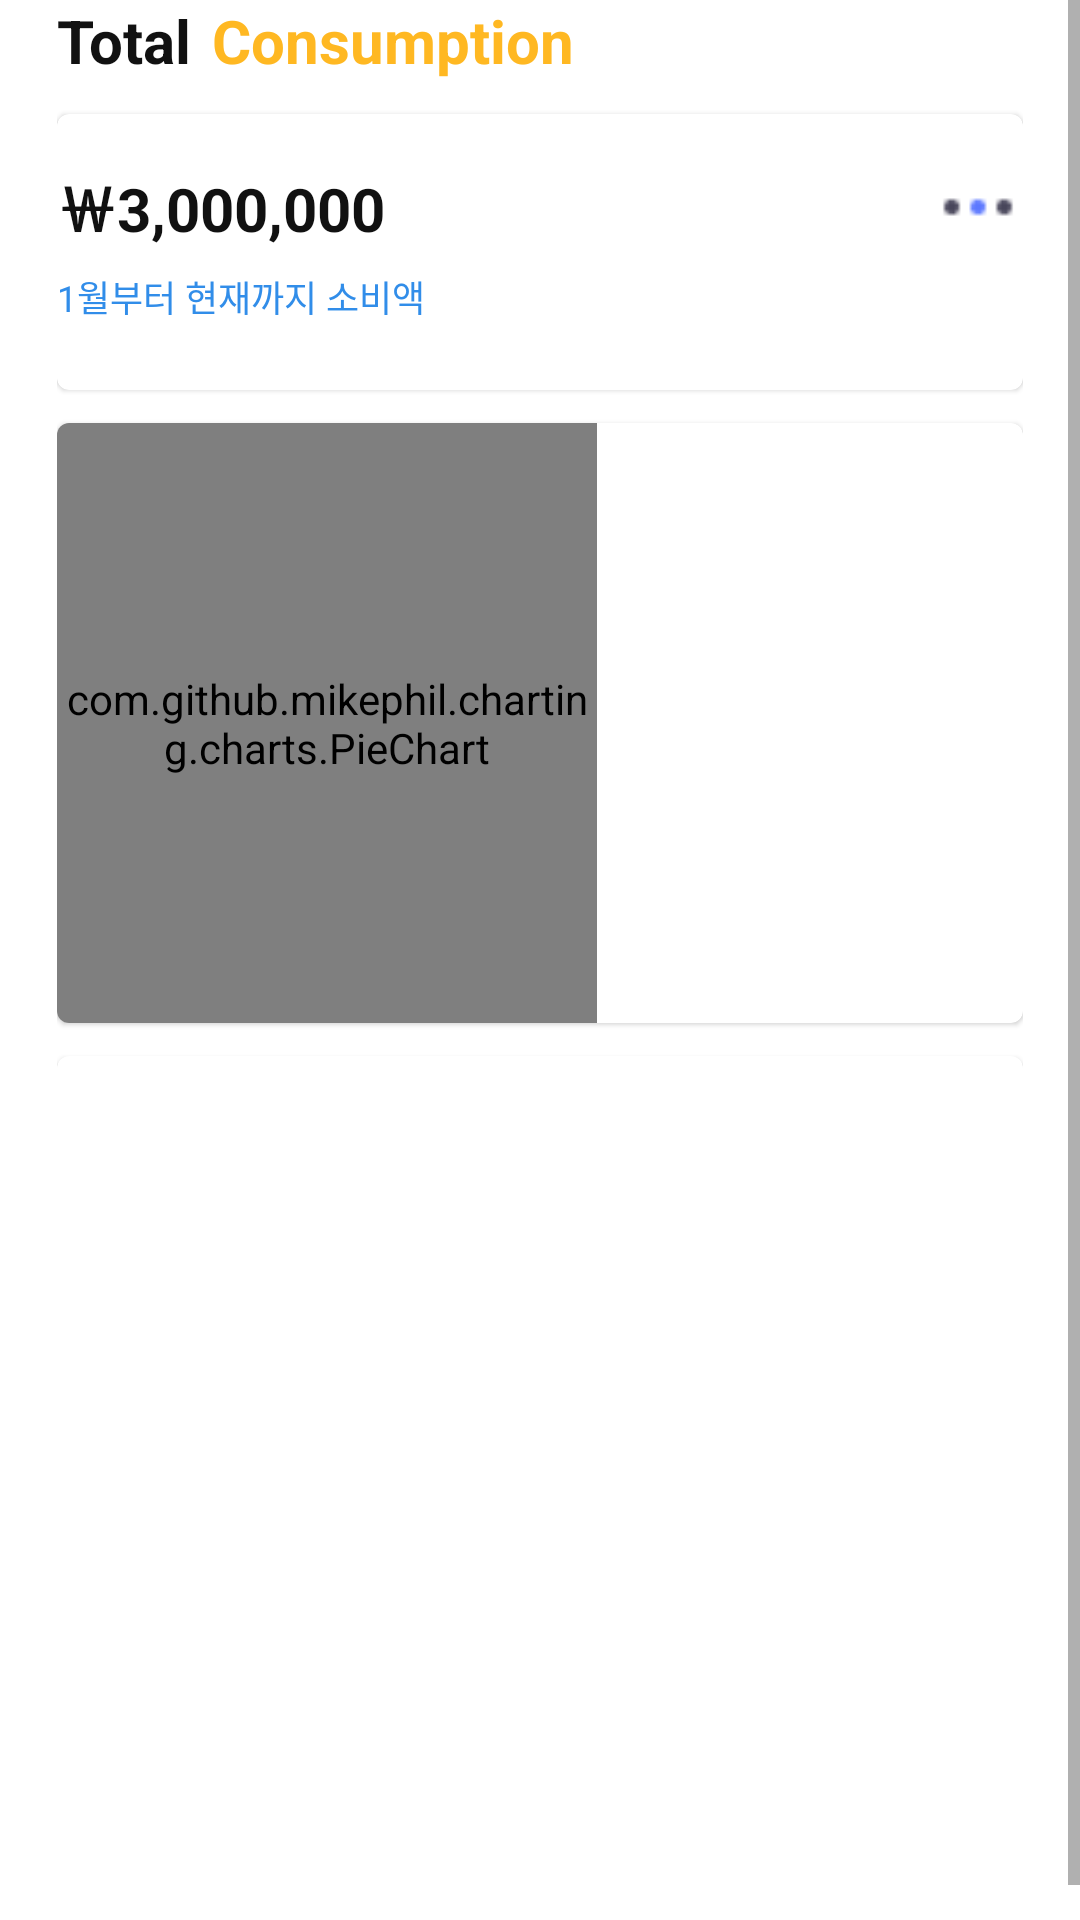

Screen size 1080×1920. Icon name, then its box in pixels as (x1=x1, y1=y1, x2=x2, y2=y2):
card more: (x1=943, y1=198, x2=1013, y2=216)
